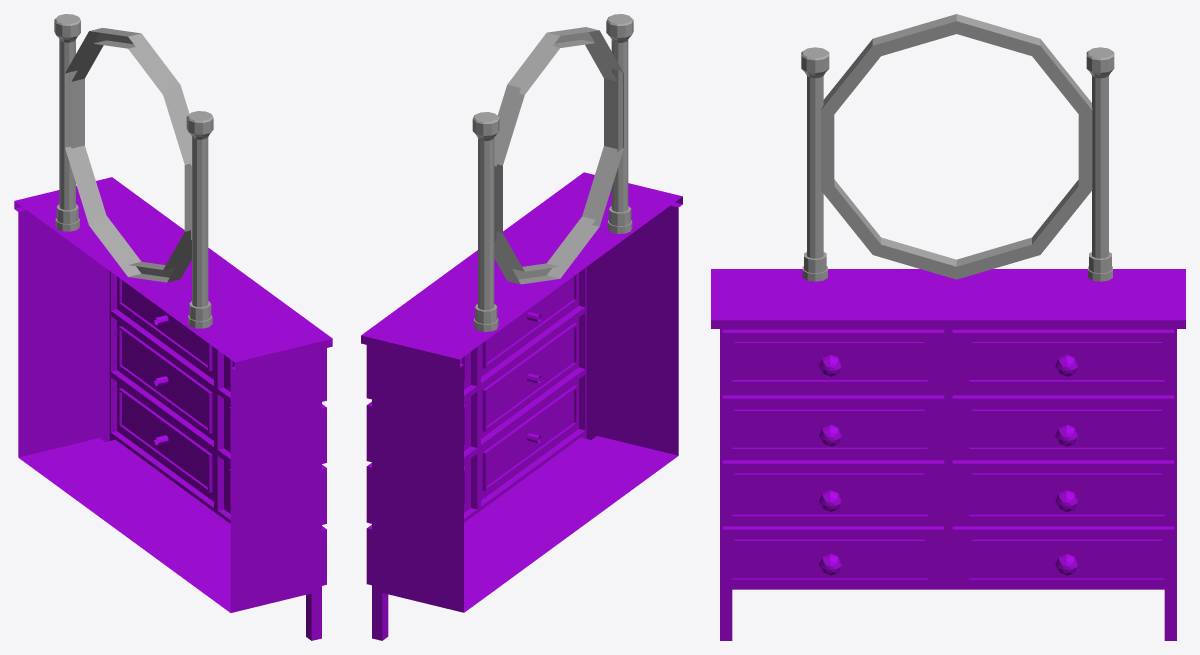
The model's file is sm_dresser_low.fbx.
3 views of the same model, side by side, from view 1: azimuth 30°, elevation 25°; view 2: azimuth 150°, elevation 25°; view 3: azimuth 270°, elevation 25° (orthographic). The views are drawn at different scales.
Parts seen in each view (by area): view 1: polySurface79; view 2: polySurface79; view 3: polySurface79.
Part boxes in pixels (x1,y1,x2,y2): polySurface79: (14, 14, 332, 640); polySurface79: (361, 14, 682, 640); polySurface79: (711, 14, 1185, 640).
Bounding box in the file's own units: 177 × 762 × 563.
